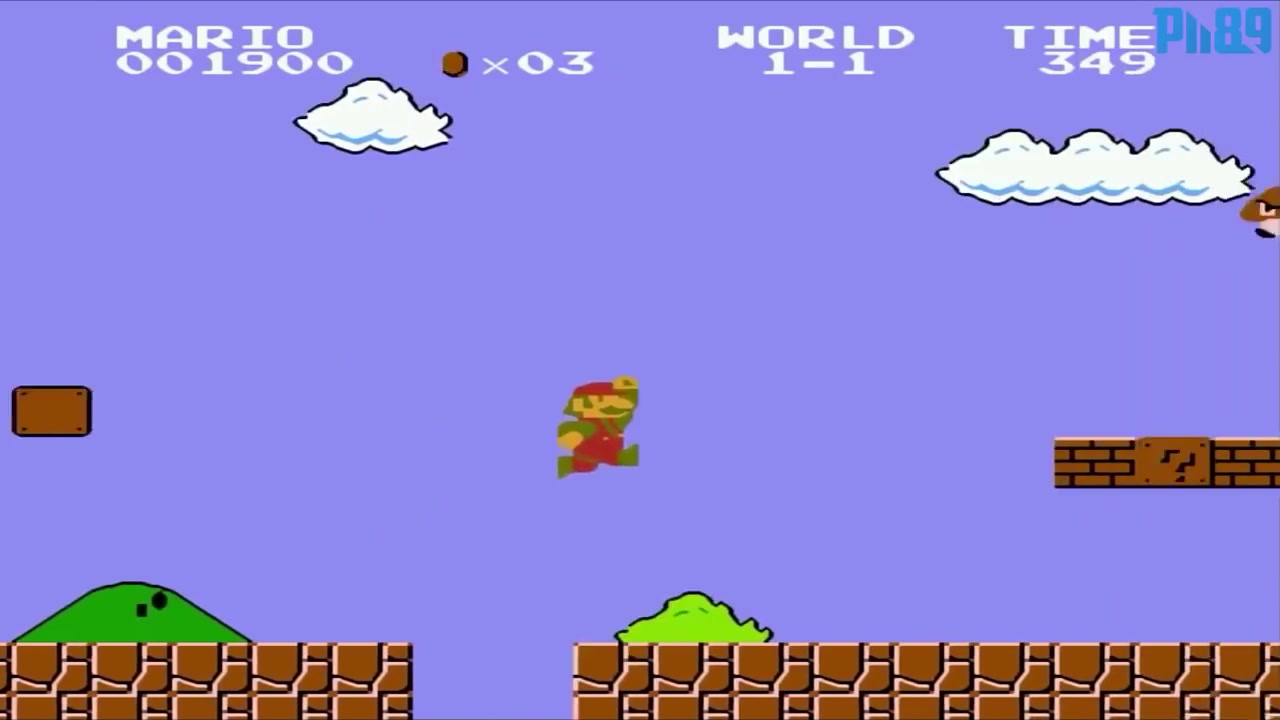mario: (548, 373, 641, 488)
